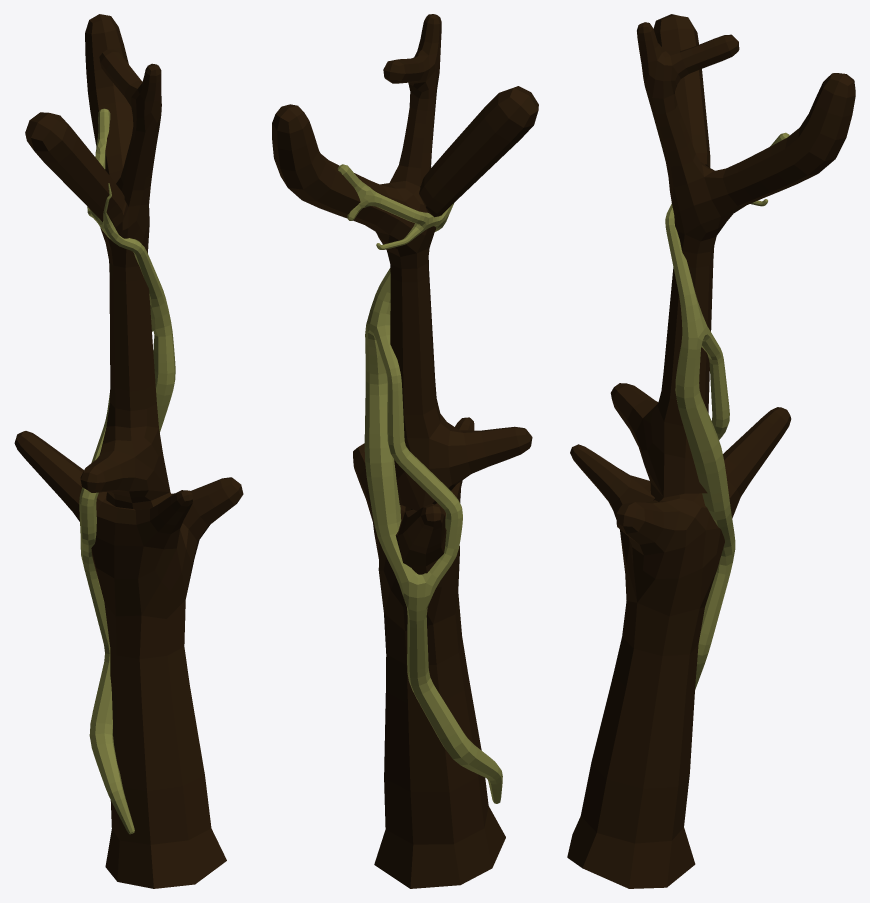
File: jungle_tree2_nowv.fbx
3 views of the same model, side by side, from view 1: azimuth 30°, elevation 25°; view 2: azimuth 150°, elevation 25°; view 3: azimuth 270°, elevation 25° (orthographic). The views are drawn at different scales.
Visible parts, largest first — view 1: Plane; view 2: Plane; view 3: Plane.
Boxes of the visible parts, left/top/right/bottom form: Plane: left=14, top=14, right=243, bottom=888; Plane: left=272, top=14, right=538, bottom=888; Plane: left=567, top=14, right=855, bottom=888.
Bounding box in the file's own units: 188 × 751 × 233.
